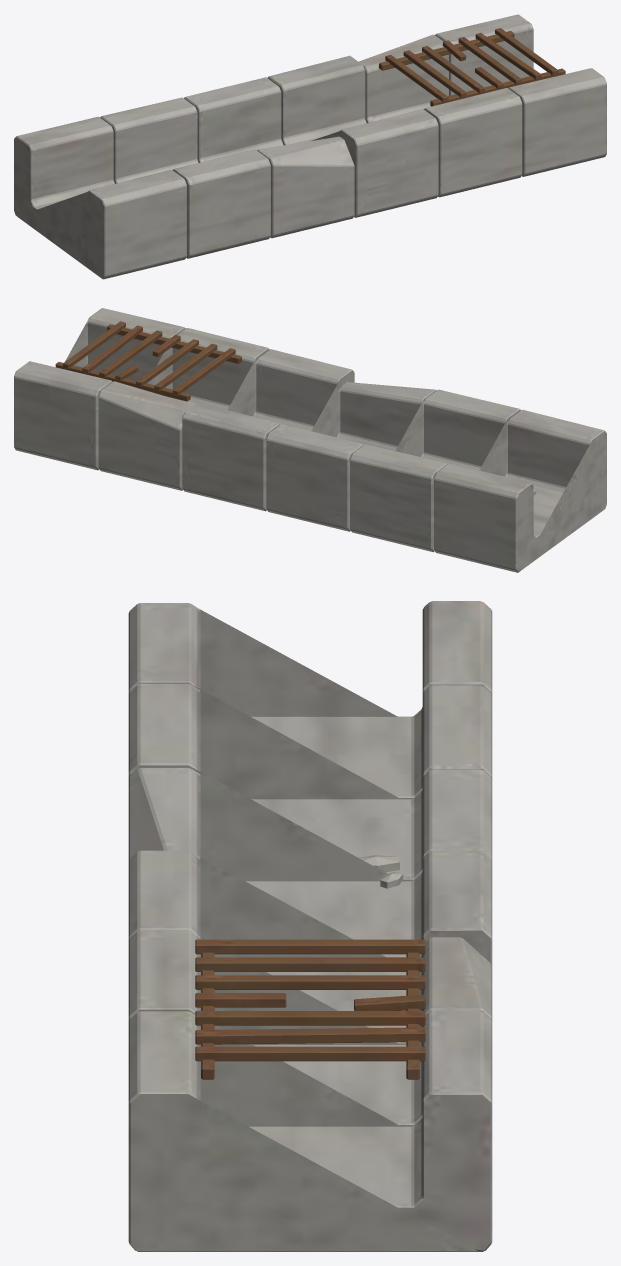
File: Y24_drain_channel_piece.glb
3 views of the same model, one above another, from view 1: azimuth 30°, elevation 25°; view 2: azimuth 150°, elevation 25°; view 3: azimuth 270°, elevation 25° (orthographic). The views are drawn at different scales.
Parts seen in each view (by area): view 1: Carved stone channel section 01; view 2: Carved stone channel section 01; view 3: Carved stone channel section 01.
Boxes of the visible parts, left/top/right/bottom form: Carved stone channel section 01: left=14, top=14, right=606, bottom=279; Carved stone channel section 01: left=14, top=308, right=606, bottom=572; Carved stone channel section 01: left=128, top=601, right=492, bottom=1251.
Size of the model in its own units: 3 by 0.4847 by 0.94.
3 materials, 3 textured.
